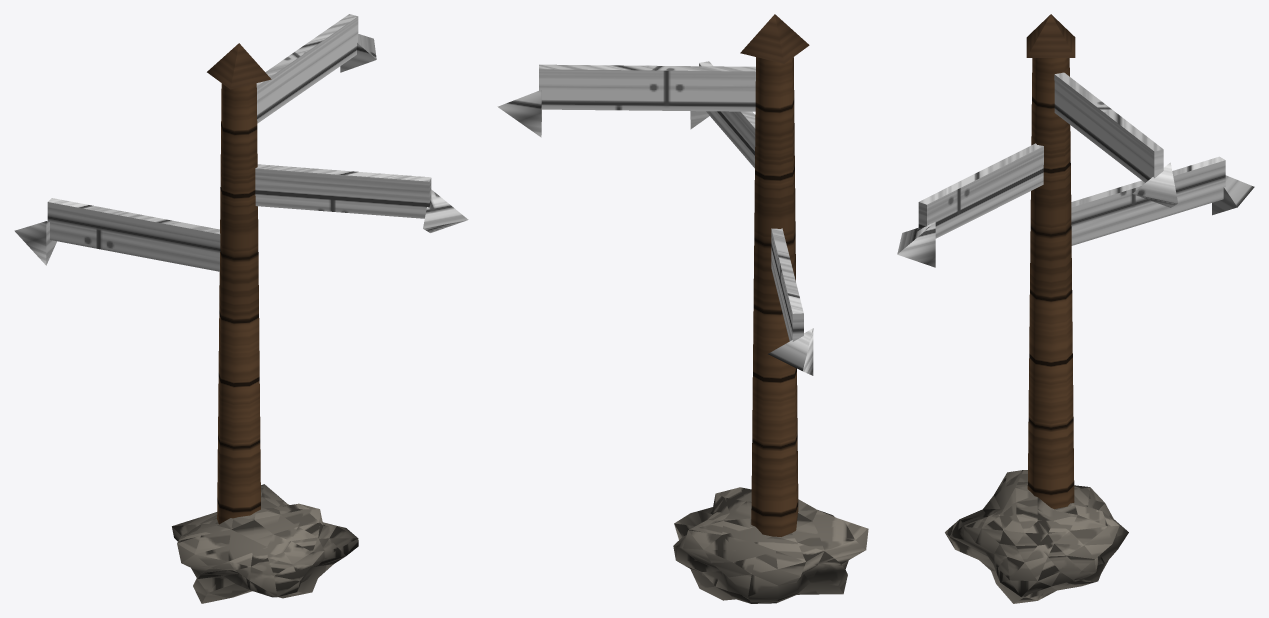
The model's file is wegweiser.glb.
3 renders of one model, left to right at view 1: azimuth 30°, elevation 25°; view 2: azimuth 150°, elevation 25°; view 3: azimuth 270°, elevation 25°, orthographic. The views are drawn at different scales.
Visible parts, largest first — view 1: modell; view 2: modell; view 3: modell.
Boxes of the visible parts, box(x1,y1,x2,y2) form: modell: box(14, 14, 468, 603); modell: box(497, 14, 868, 603); modell: box(897, 14, 1254, 603).
Bounding box in the file's own units: 1.44 × 2.35 × 1.35.
2 materials, 2 textured.
